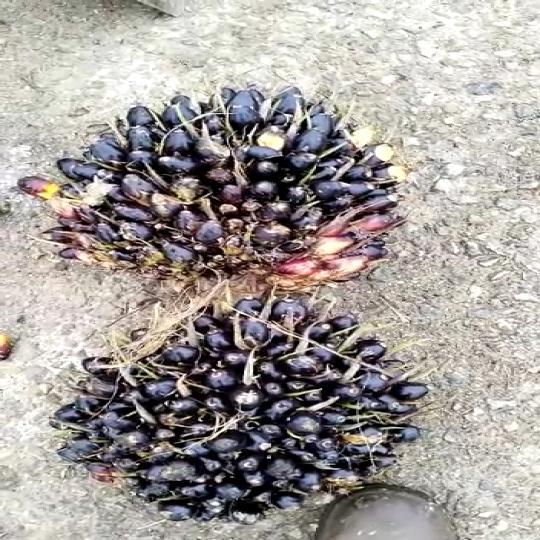mentah: (41, 298, 424, 526), (32, 94, 431, 299)
